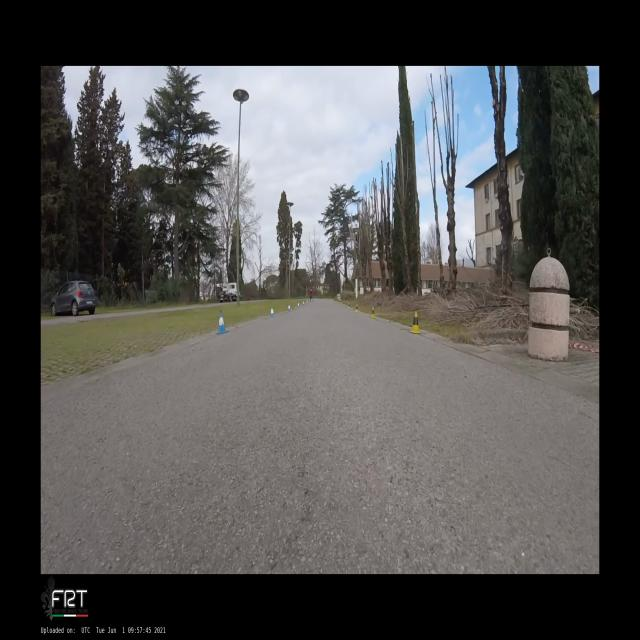blue_cone: (216, 311, 228, 334), (270, 307, 274, 317), (288, 305, 290, 311)
yellow_cone: (409, 311, 422, 334), (370, 306, 376, 318), (356, 304, 358, 312), (348, 303, 350, 308)
